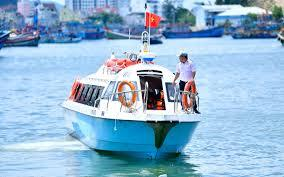Ship: (64, 33, 202, 159)
